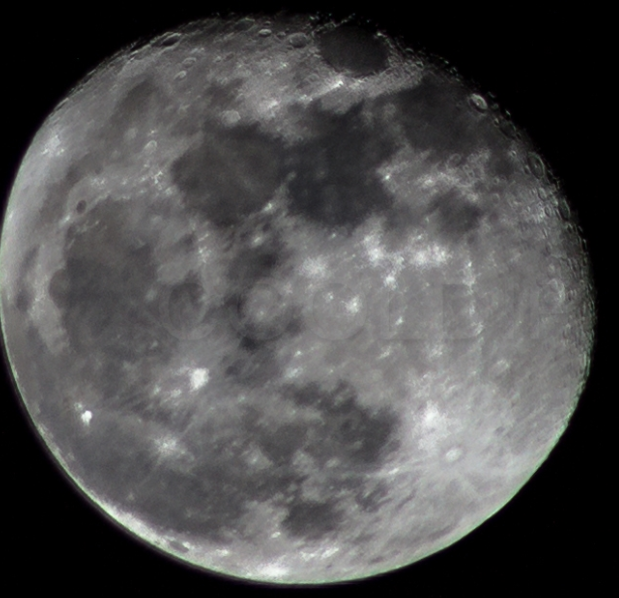crater: (403, 408, 496, 497), (175, 346, 238, 413), (446, 82, 491, 136), (282, 27, 316, 57), (214, 98, 244, 125), (137, 133, 164, 158), (537, 238, 558, 260), (73, 192, 90, 219)
